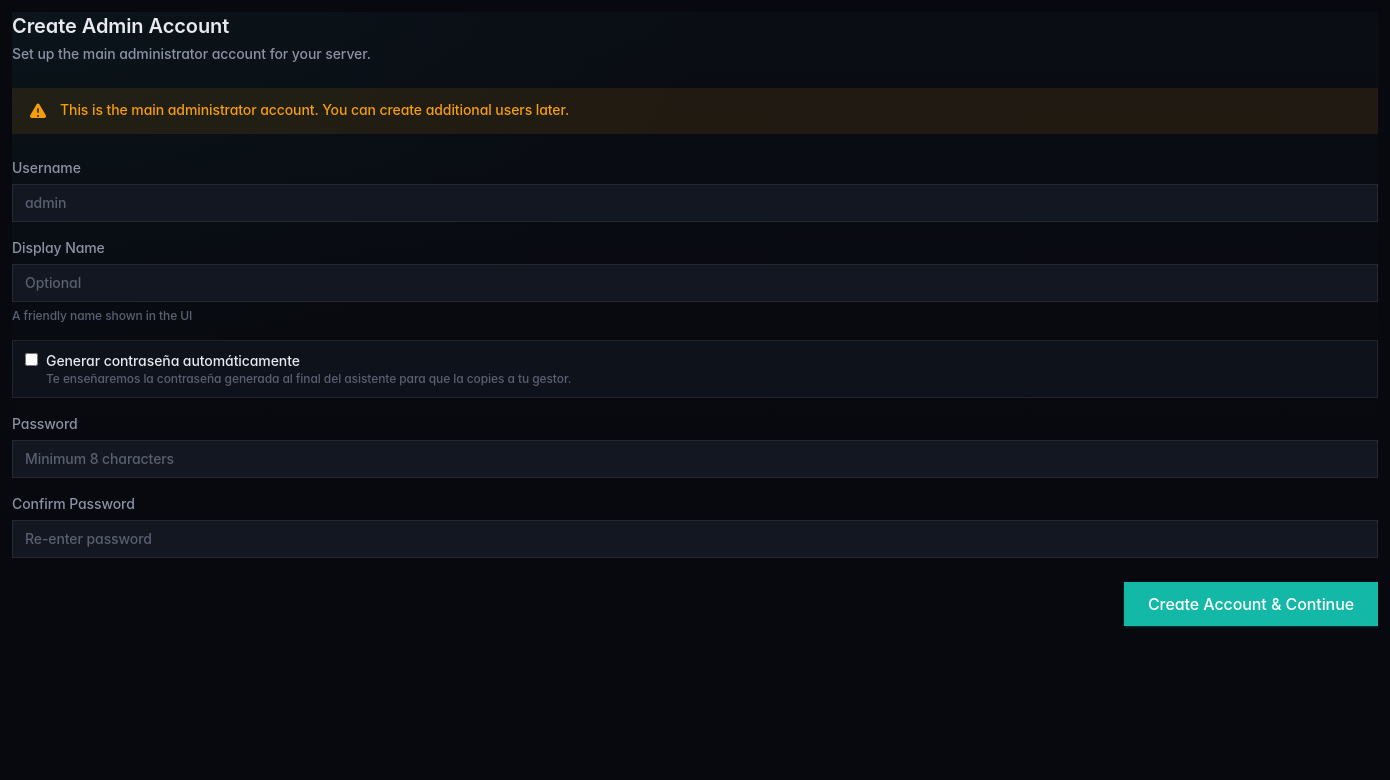
Test: AccountStep › blocks submit and shows a username error when it is too short
In the field labelled "Username": (695, 203) [12,184,1378,222], type "ab"
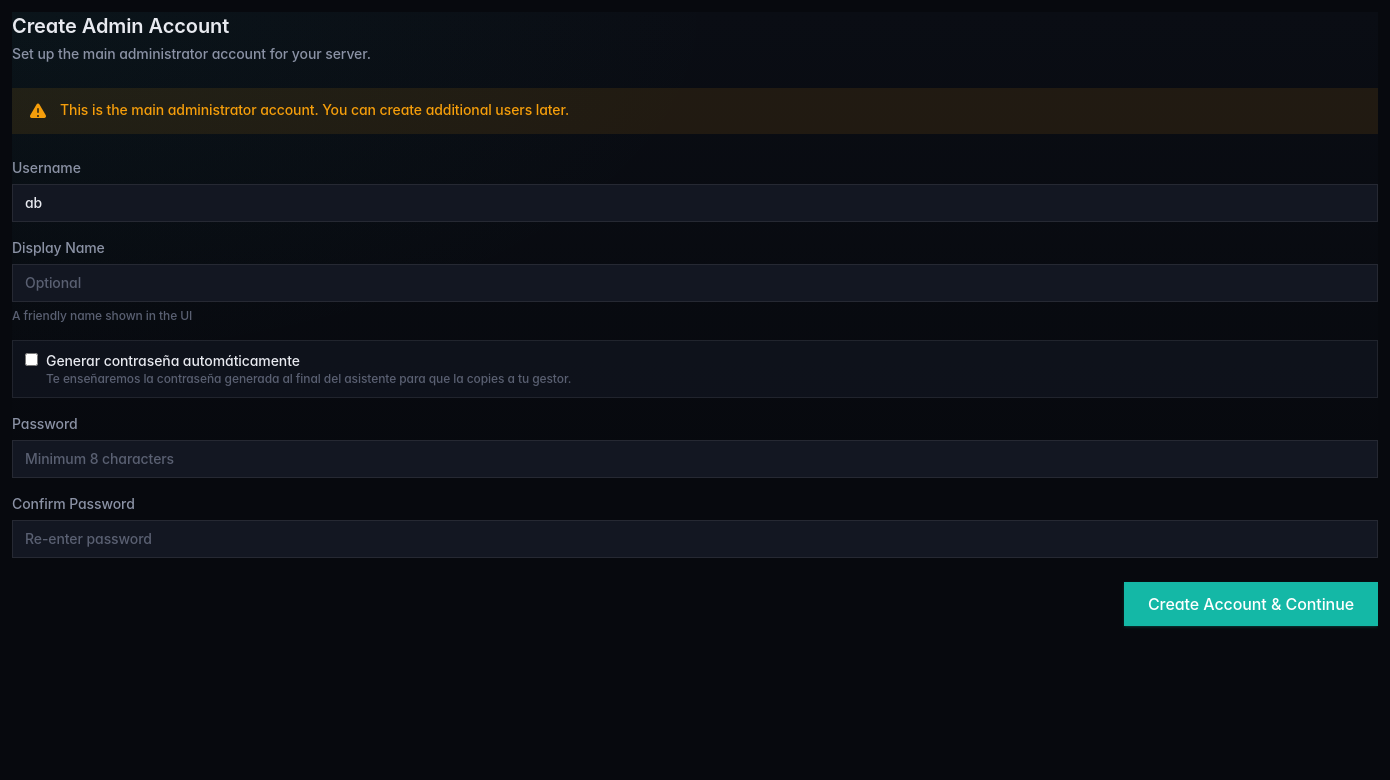
In the password field labelled "Password": (695, 459) [12,440,1378,478], type "password1"
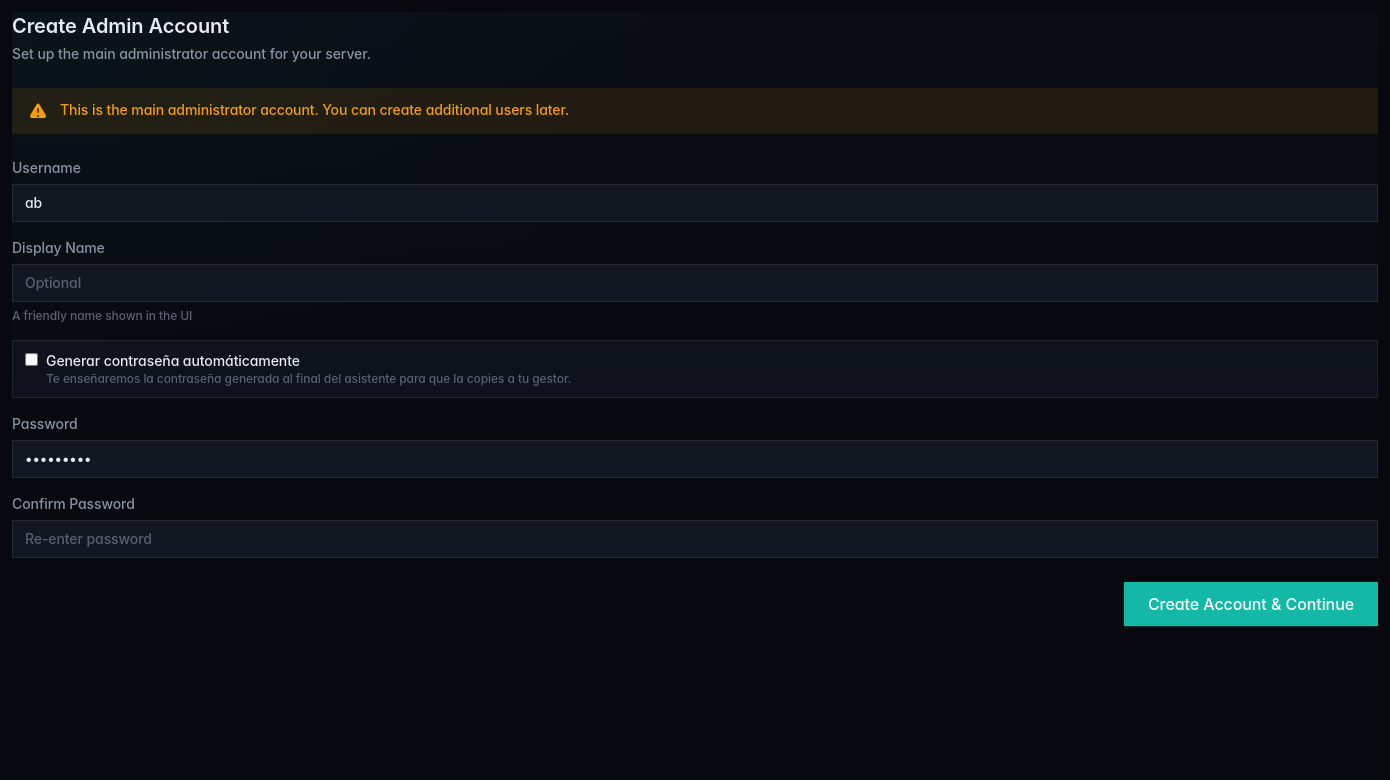
In the password field labelled "Confirm Password": (695, 539) [12,520,1378,558], type "password1"
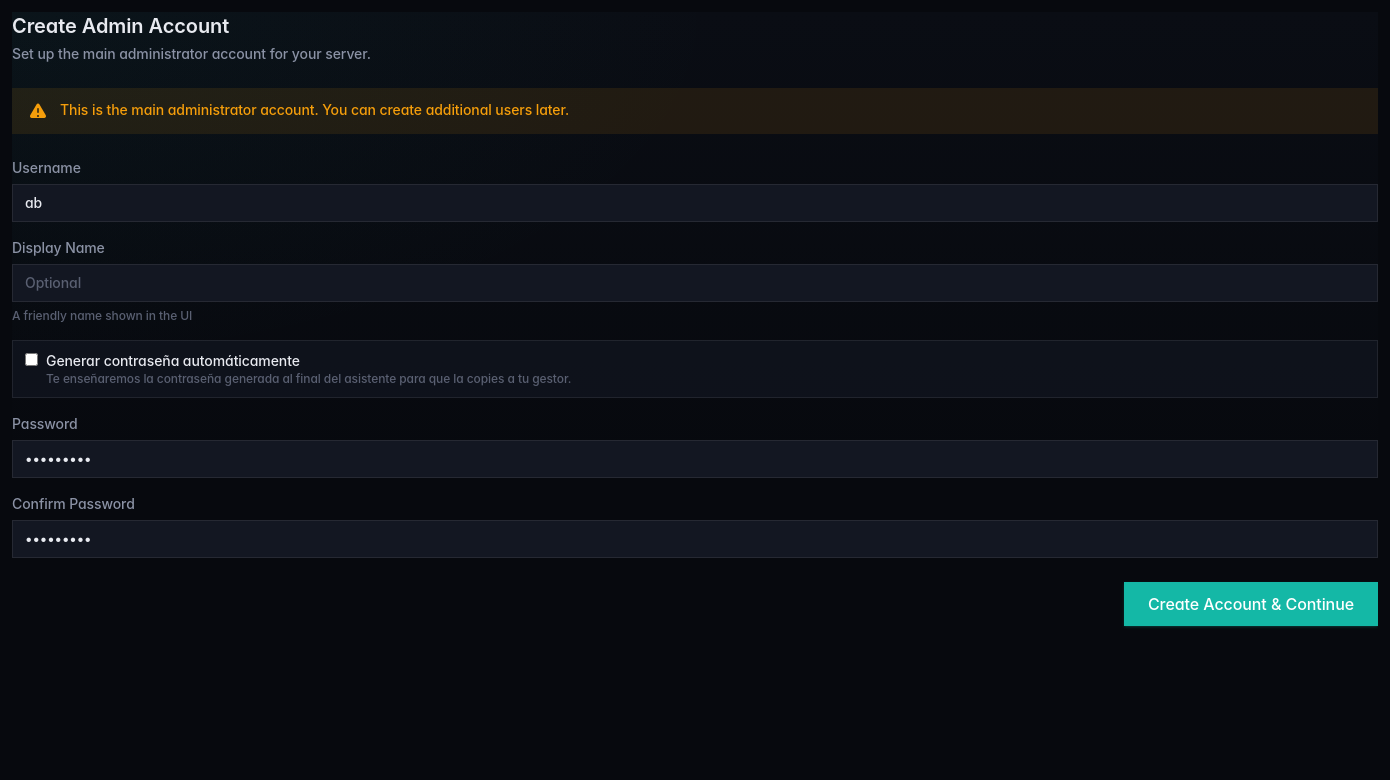
Click the button "Create Account & Continue": (1251, 604) [1124,582,1378,626]
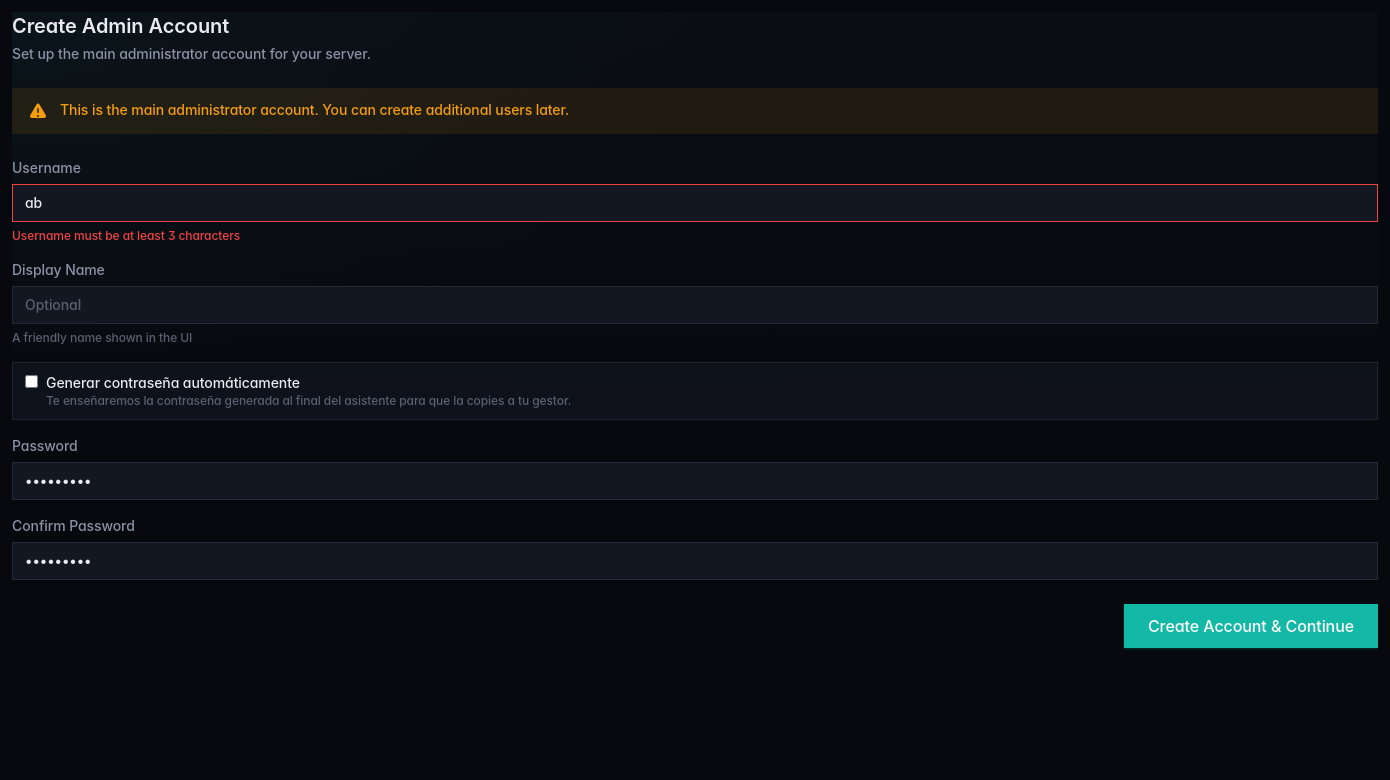
Expected: the text "Username must be at least 3 characters" is shown, [12,228,240,243]
